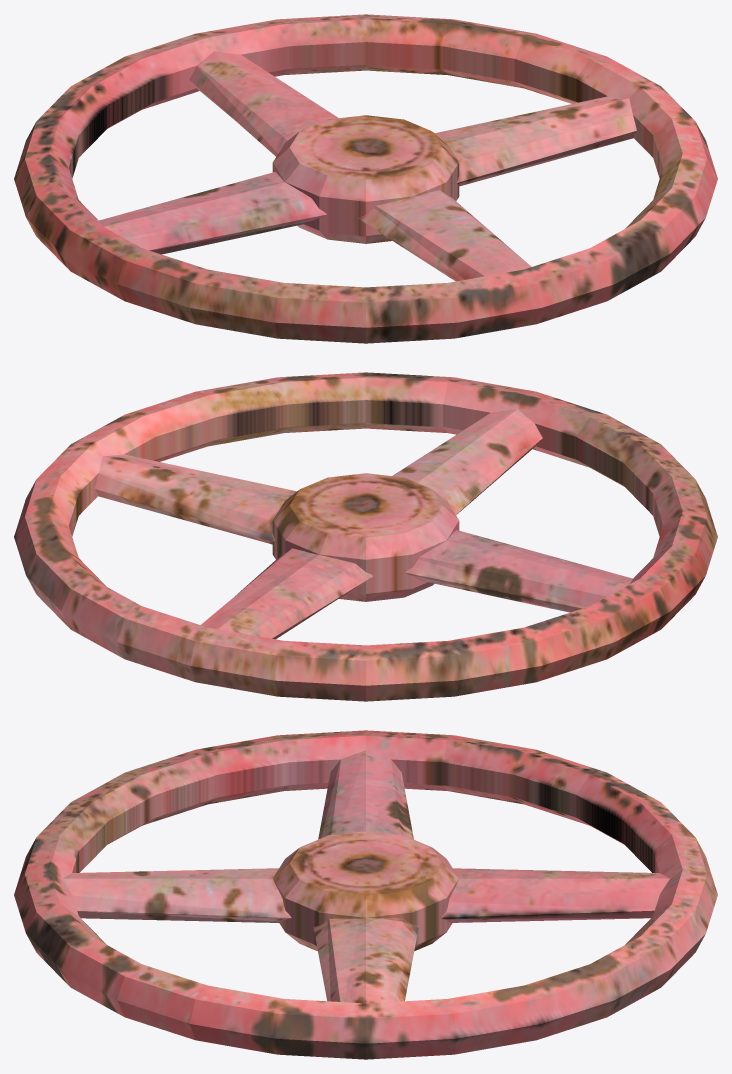
File: valves.DAE
The picture shows the model from 3 angles, top to bottom: view 1: azimuth 30°, elevation 25°; view 2: azimuth 150°, elevation 25°; view 3: azimuth 270°, elevation 25°; orthographic projection.
Parts seen in each view (by area): view 1: Mesh_Object; view 2: Mesh_Object; view 3: Mesh_Object.
Boxes of the visible parts, left/top/right/bottom form: Mesh_Object: left=14, top=14, right=717, bottom=343; Mesh_Object: left=14, top=372, right=717, bottom=701; Mesh_Object: left=14, top=730, right=717, bottom=1059.
Bounding box in the file's own units: 1.37 × 0.1378 × 1.37.
